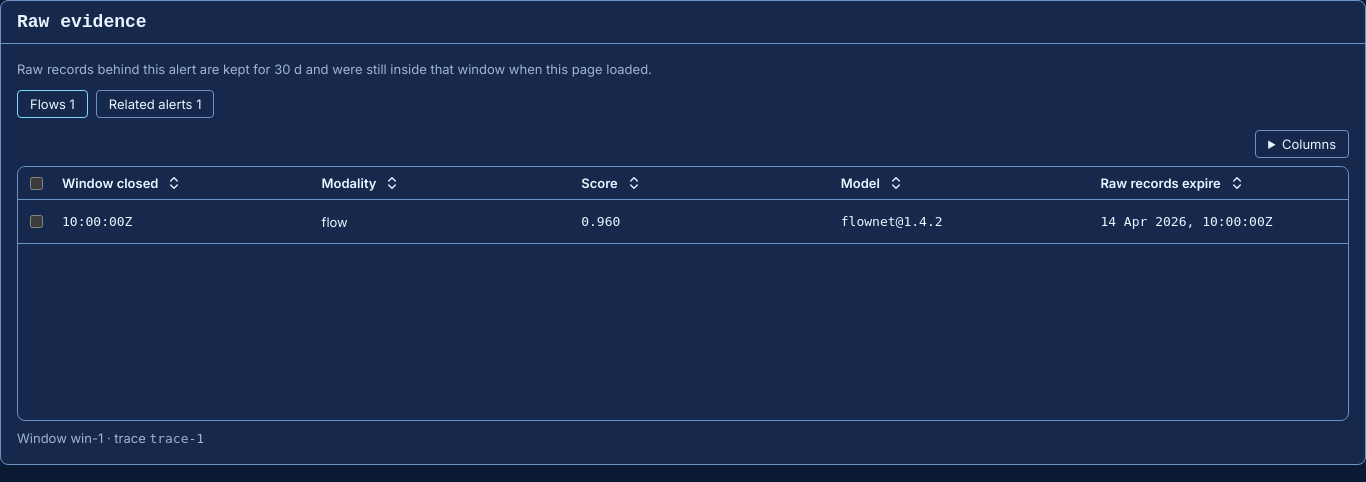
Test: EvidencePanel › links a related alert with both halves of its key
Click the tab "Related alerts 1" at (155, 104), box x1=96 y1=90 x2=214 y2=118
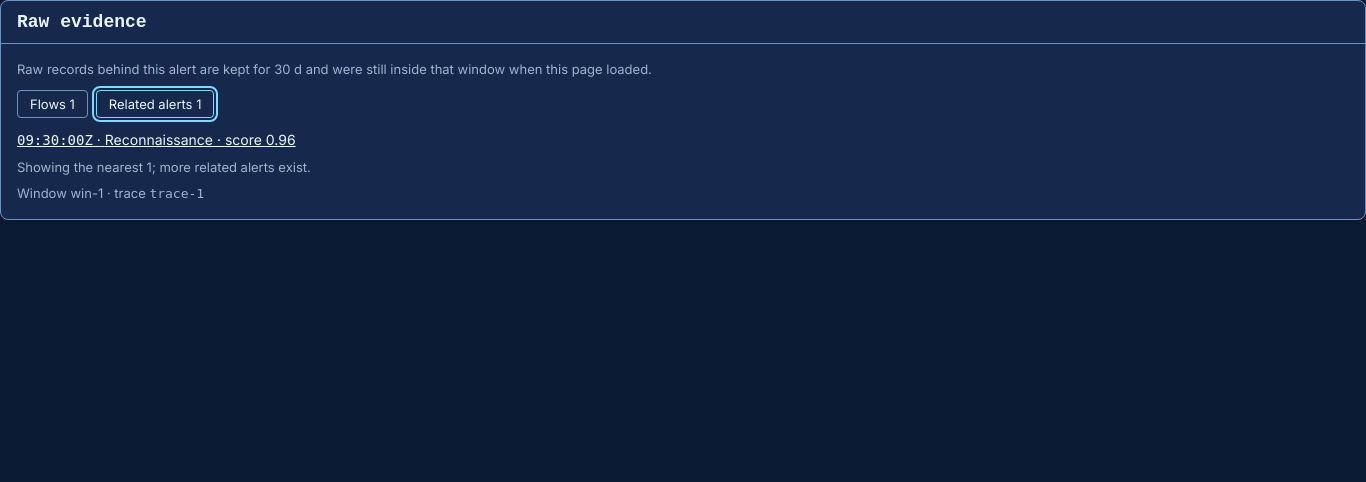
Now the text "Showing the nearest 1; more related alerts exist." is shown, box x1=17 y1=159 x2=311 y2=175
